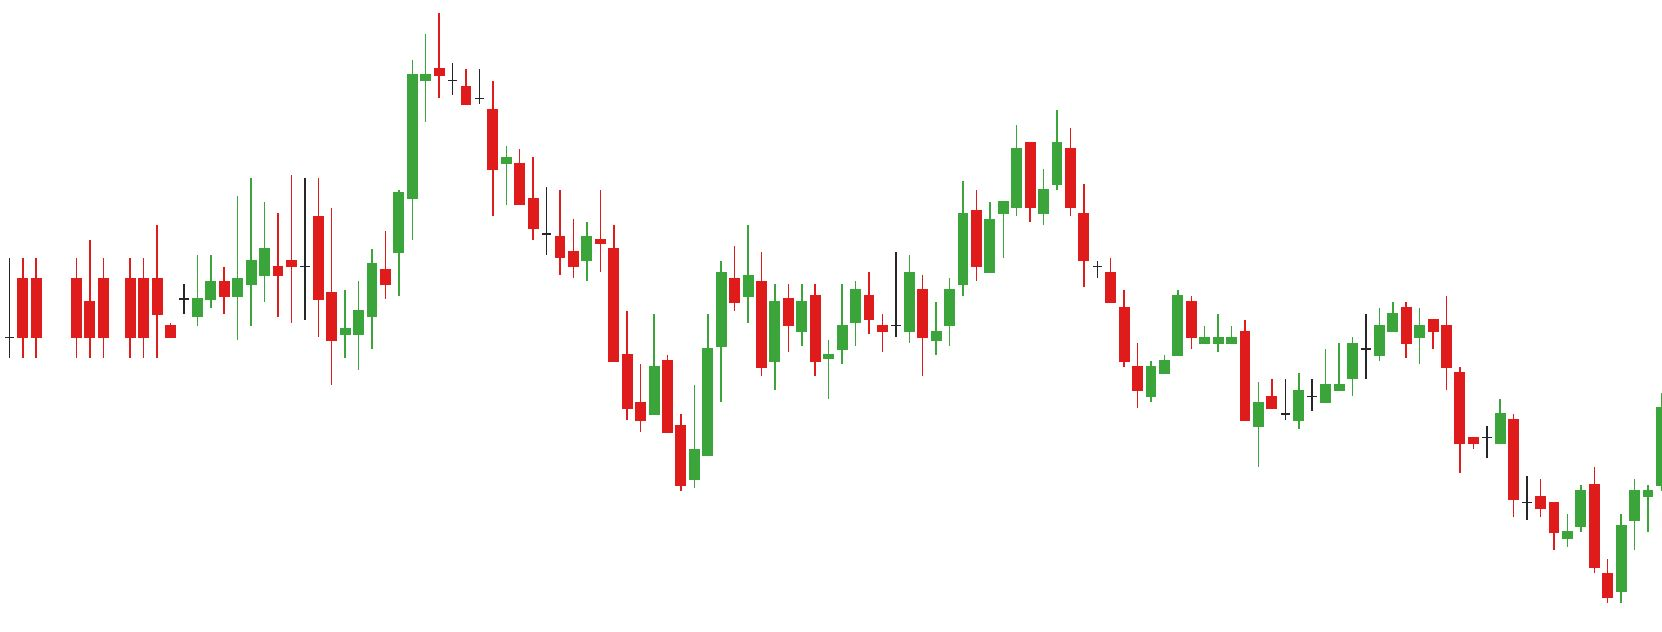sell: (956, 121, 1039, 258)
